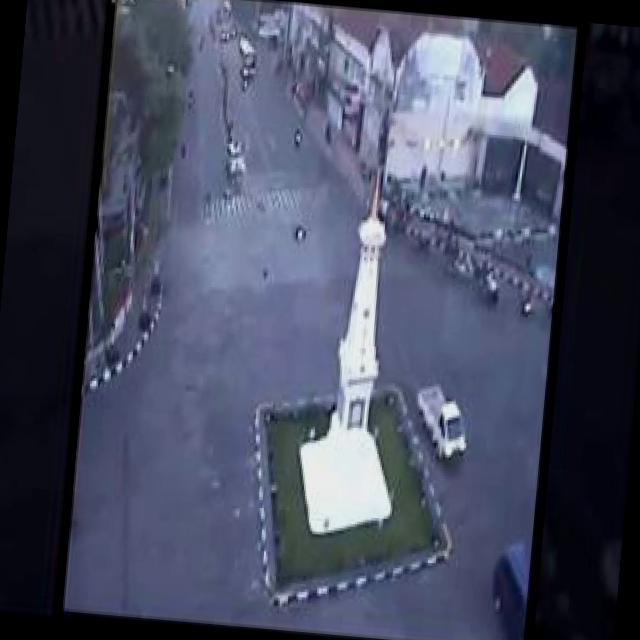bike: (290, 221, 308, 244)
car: (483, 531, 540, 640), (412, 379, 469, 465), (232, 32, 260, 84)
